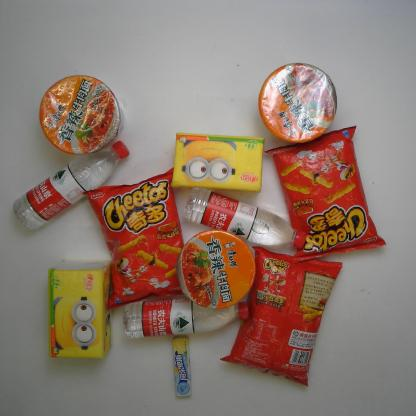Candy: (172, 336, 192, 398)
Drink: (12, 141, 130, 230), (182, 186, 307, 250), (122, 296, 250, 339)
Instant Noodles: (39, 74, 124, 156), (175, 230, 257, 310), (258, 62, 337, 144)
Puffed Food: (218, 245, 342, 388), (264, 125, 386, 265), (82, 167, 185, 308)
Tissue: (47, 260, 111, 359), (170, 132, 265, 194)
